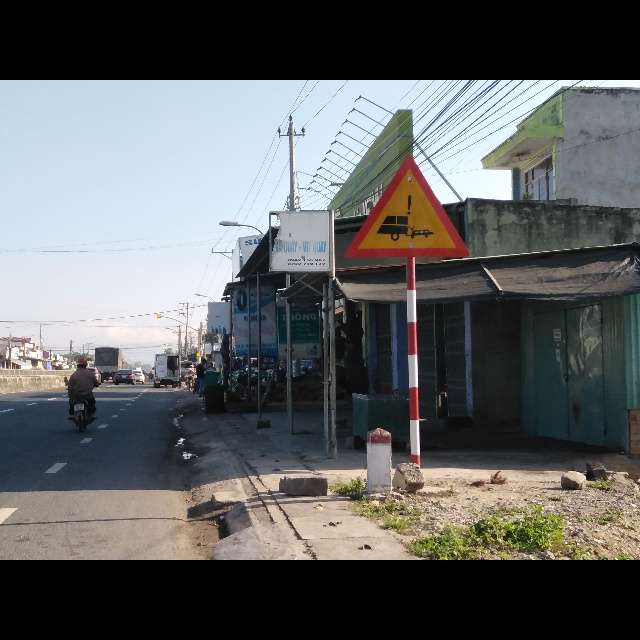Đoạn đường hay xảy ra tai nạn: (342, 157, 472, 260)
